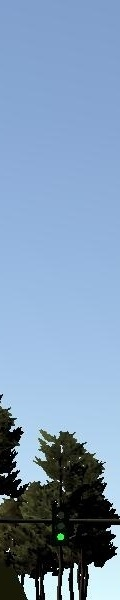Green: (50, 499, 70, 545)
